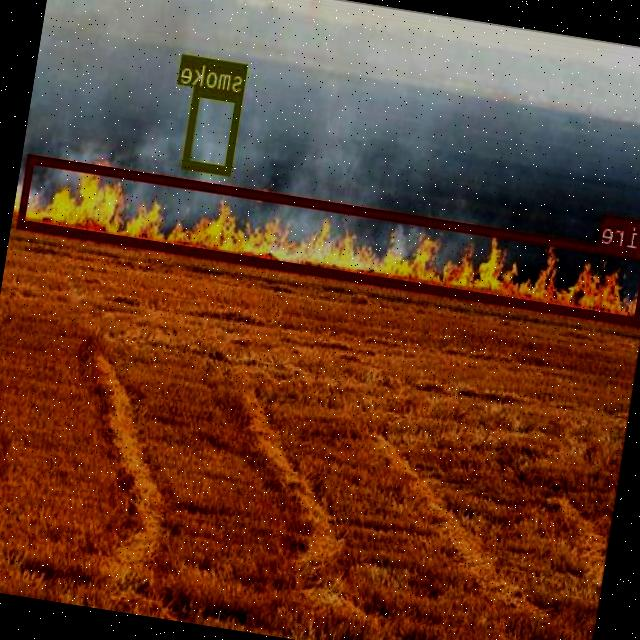fire: (18, 154, 640, 325)
smoke: (184, 86, 244, 174)
